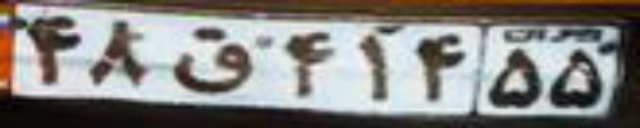1: (357, 33, 393, 101)
4: (412, 33, 466, 102), (30, 15, 78, 85), (283, 30, 330, 97)
5: (486, 47, 543, 109), (549, 49, 603, 109)
8: (86, 19, 145, 84)
ghaf: (172, 26, 246, 95)
